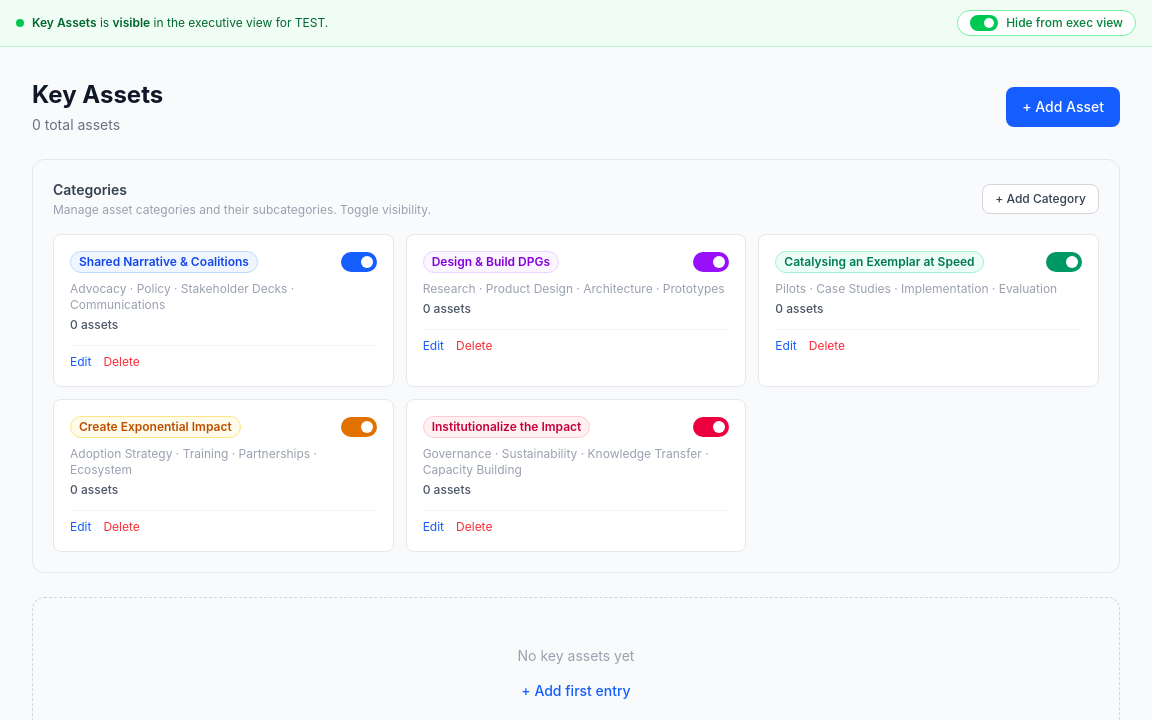
Scenario: ArtifactEditor › T-39.03: saving a new asset adds it to the list
This screenshot has width=1152, height=720.
Click the button "+ Add Asset" at (1063, 107), box [1006,87,1120,127]
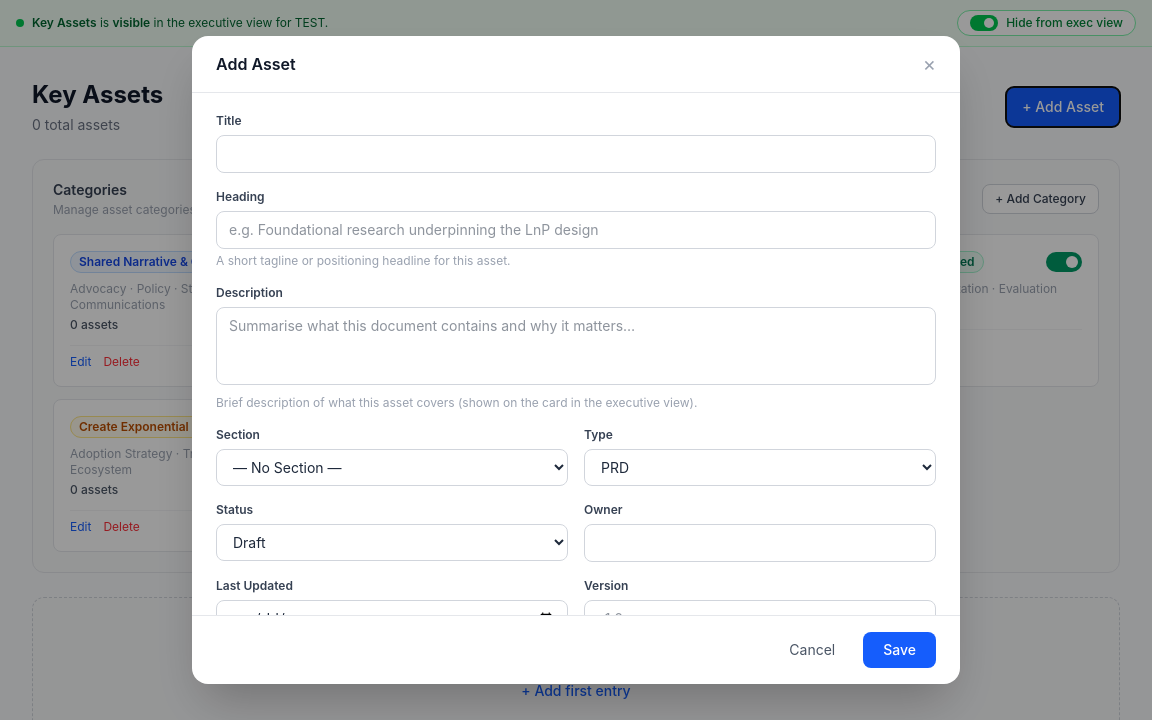
Now the heading "Add Asset" is shown, box [216,52,296,76]
Type "Architecture Decision Record" into the field below "Title" at (576, 154), box [216,135,936,173]
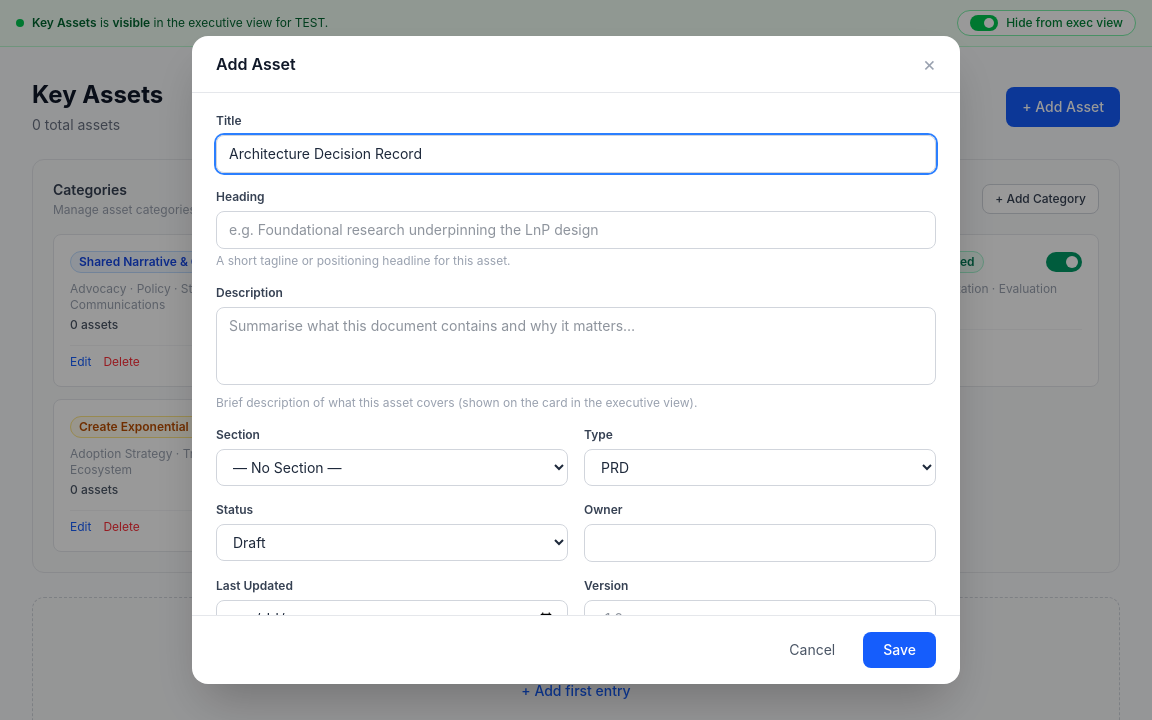
Click the button "Save" at (900, 650), box [863,632,936,668]
(page scrolled)
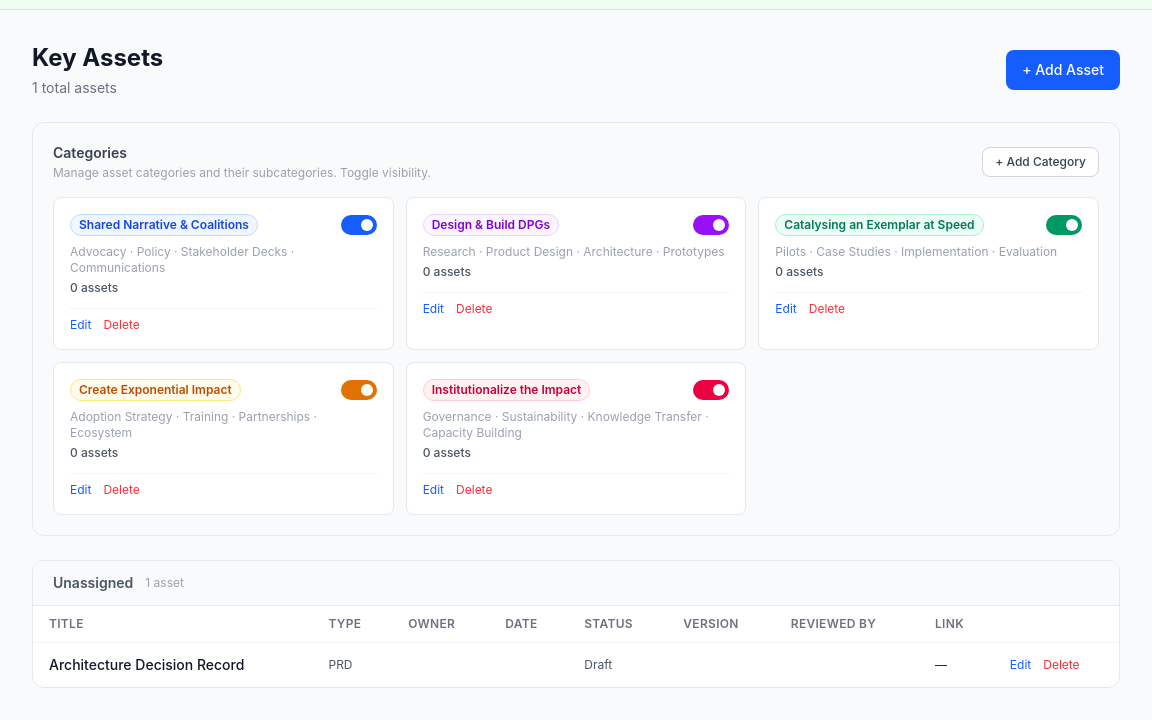
Now the text "Architecture Decision Record" is shown, box [33,642,312,687]
